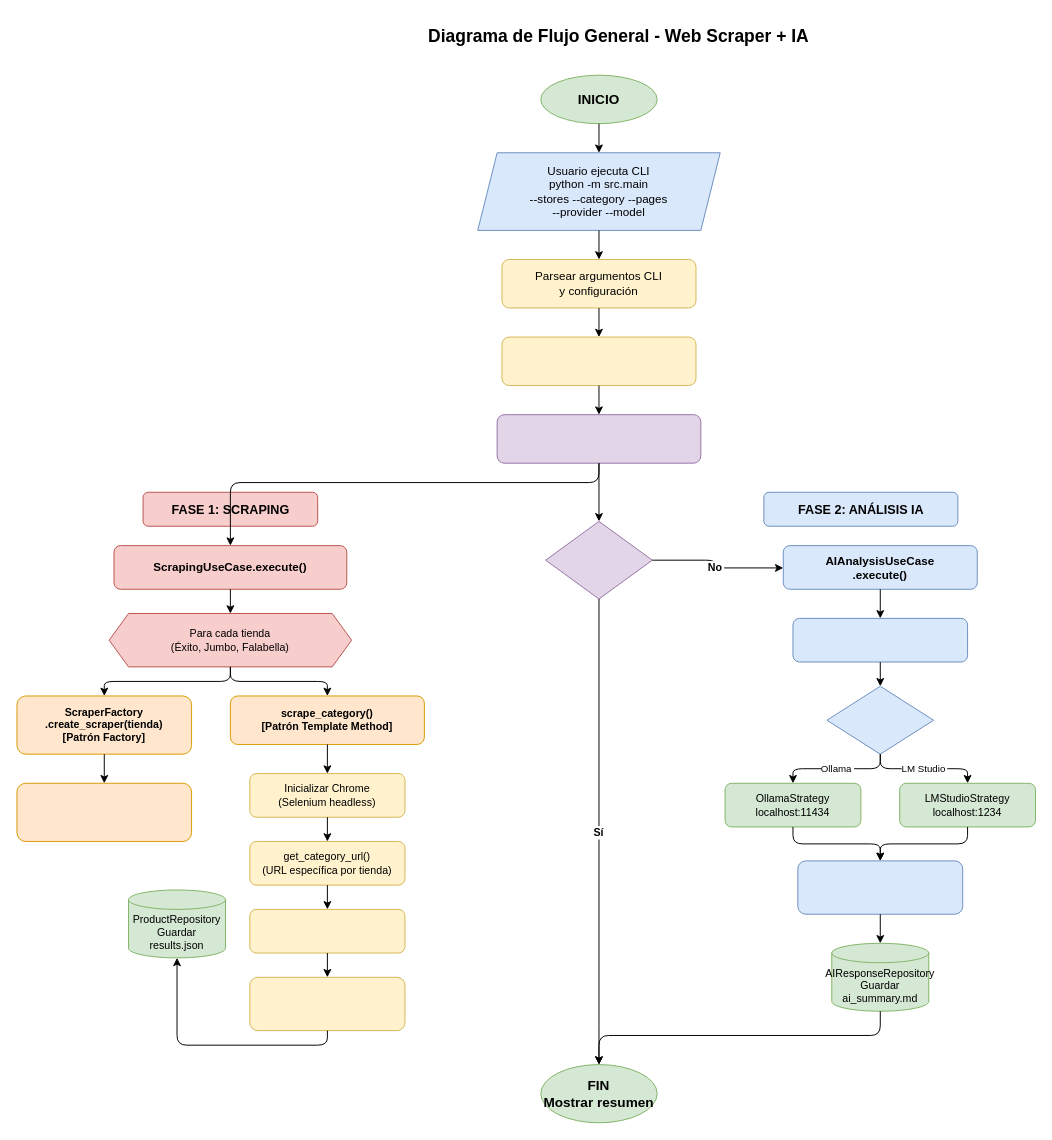
Some shapes in this 1052 by 1140 pixel diagram are drawn without their labels. Each missing label, with the box of its shape:
ApplicationService run_full_pipeline(): (501, 336, 696, 386)
create_llm_context() [Patrón Strategy]: (792, 617, 968, 662)
Ejecutar consultas analyze_products() con reintentos: (797, 860, 963, 914)
fetch_page() Selenium navega + scroll: (249, 908, 405, 953)
parse_products() BeautifulSoup extrae nombre, precio, URL: (249, 976, 405, 1031)
PipelineUseCase.execute(): (496, 414, 701, 463)
Scraper concreto (ExitoScraper / JumboScraper / FalabellaScraper): (16, 782, 192, 841)
¿Proveedor?: (826, 685, 934, 754)
¿skip-ai?: (545, 520, 652, 599)
